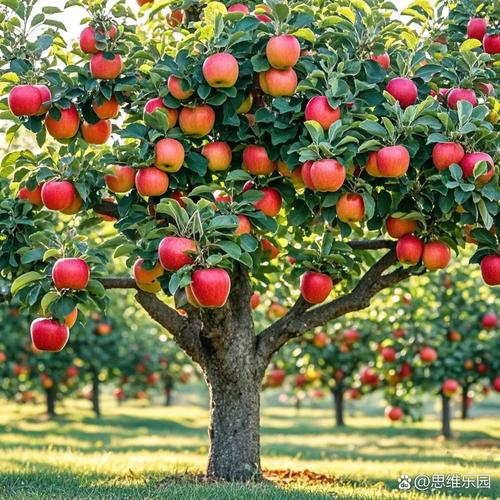ripe: (184, 264, 241, 312), (32, 171, 88, 219), (154, 232, 207, 276), (5, 77, 56, 116), (23, 316, 75, 353), (235, 138, 282, 175), (309, 151, 349, 194), (253, 65, 304, 98), (458, 144, 494, 188), (202, 51, 244, 88), (87, 47, 129, 83), (304, 92, 343, 130), (51, 259, 94, 293), (295, 267, 333, 305), (264, 31, 304, 65), (46, 99, 79, 140), (379, 144, 415, 180), (385, 71, 420, 108), (136, 162, 170, 199), (249, 185, 286, 218), (152, 136, 186, 171), (142, 93, 175, 129), (420, 240, 454, 272), (445, 83, 482, 112), (477, 247, 500, 292), (394, 232, 423, 265), (432, 136, 459, 165)
unripe: (129, 254, 172, 296), (99, 158, 145, 196), (175, 102, 214, 136), (334, 193, 365, 227), (202, 138, 228, 173)
